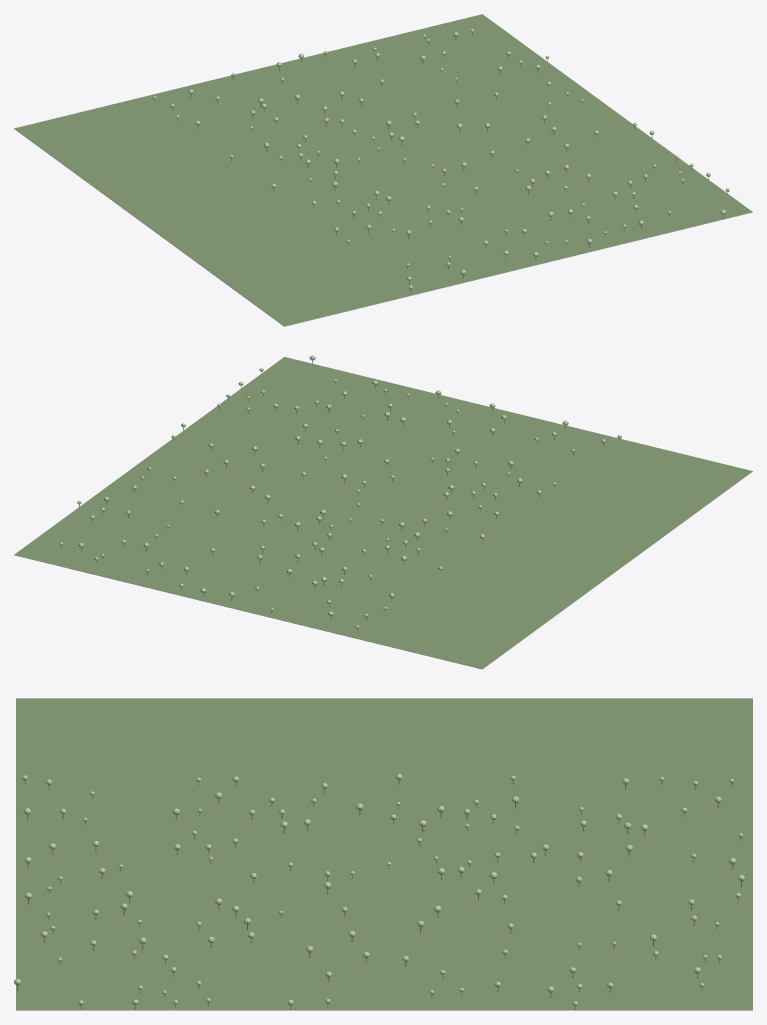
The model's file is chunk_0_6_high.glb.
3 renders of one model, top to bottom at view 1: azimuth 30°, elevation 25°; view 2: azimuth 150°, elevation 25°; view 3: azimuth 270°, elevation 25°, orthographic. The views are drawn at different scales.
Visible parts, largest first — view 1: city_forest_floor, city_foliage, city_foliage_dark, city_grass, city_bark; view 2: city_forest_floor, city_foliage, city_foliage_dark, city_grass, city_bark; view 3: city_forest_floor, city_foliage, city_foliage_dark, city_bark, city_grass.
Boxes of the visible parts, bbox=[...] form: city_forest_floor: bbox=[14, 14, 752, 326]; city_foliage: bbox=[153, 29, 729, 289]; city_foliage_dark: bbox=[152, 29, 726, 288]; city_grass: bbox=[14, 129, 752, 326]; city_bark: bbox=[154, 32, 727, 291]; city_forest_floor: bbox=[14, 357, 752, 668]; city_foliage: bbox=[60, 355, 621, 628]; city_foliage_dark: bbox=[59, 356, 621, 627]; city_grass: bbox=[14, 471, 752, 669]; city_bark: bbox=[61, 360, 619, 630]; city_forest_floor: bbox=[16, 698, 752, 1009]; city_foliage: bbox=[14, 774, 744, 1005]; city_foliage_dark: bbox=[16, 776, 743, 1005]; city_bark: bbox=[17, 780, 741, 1009]; city_grass: bbox=[16, 1010, 752, 1010].
Size of the model in its own units: 514 by 9.77 by 513.
